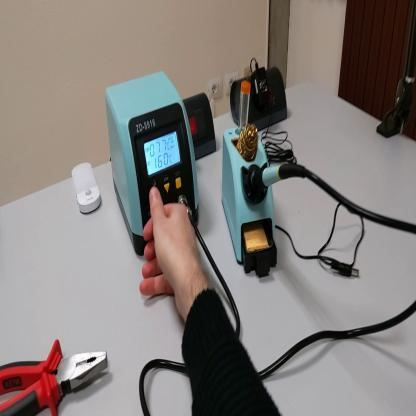hand: (140, 190, 203, 301)
pliers: (1, 335, 116, 415)
socket: (229, 58, 289, 128), (182, 88, 216, 162)
welder base: (223, 80, 278, 279)
welder probe tip: (255, 160, 302, 195)
welder station: (106, 73, 200, 259)
